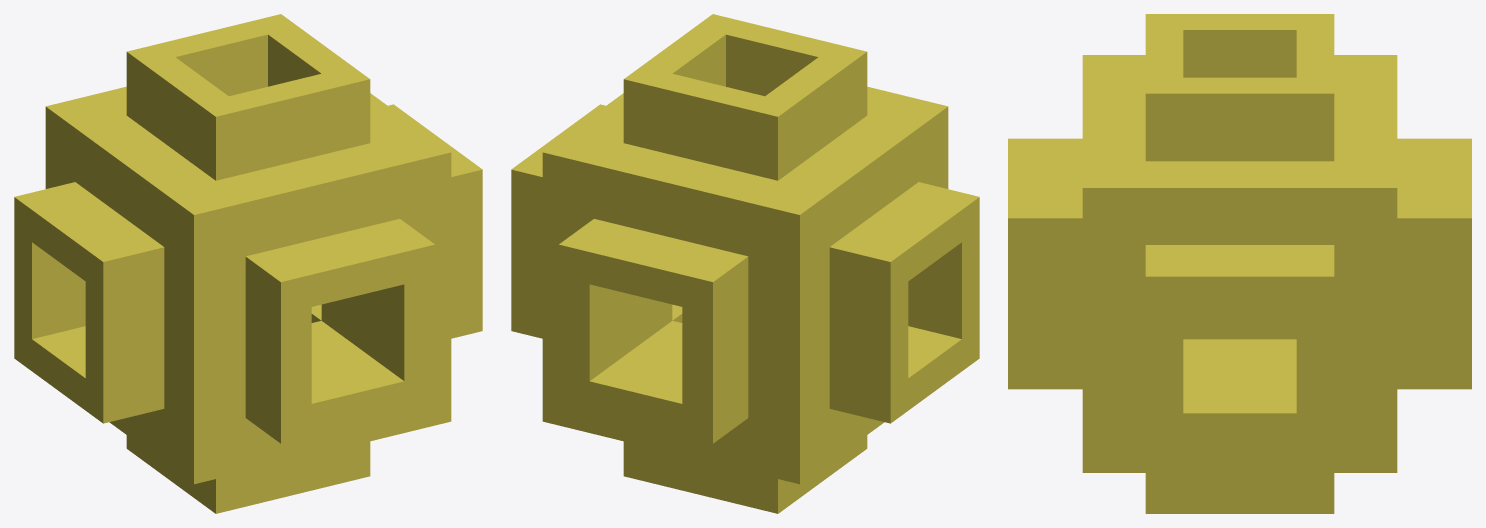
The model's file is contenido.glb.
3 views of the same model, side by side, from view 1: azimuth 30°, elevation 25°; view 2: azimuth 150°, elevation 25°; view 3: azimuth 270°, elevation 25° (orthographic). The views are drawn at different scales.
Visible parts, largest first — view 1: Mesh_Mesh_head_geo.001_lambert2SG.001; view 2: Mesh_Mesh_head_geo.001_lambert2SG.001; view 3: Mesh_Mesh_head_geo.001_lambert2SG.001.
Boxes of the visible parts, left/top/right/bottom form: Mesh_Mesh_head_geo.001_lambert2SG.001: left=14, top=14, right=482, bottom=513; Mesh_Mesh_head_geo.001_lambert2SG.001: left=511, top=14, right=979, bottom=513; Mesh_Mesh_head_geo.001_lambert2SG.001: left=1008, top=14, right=1471, bottom=513.
Size of the model in its own units: 0.149 by 0.149 by 0.149.
